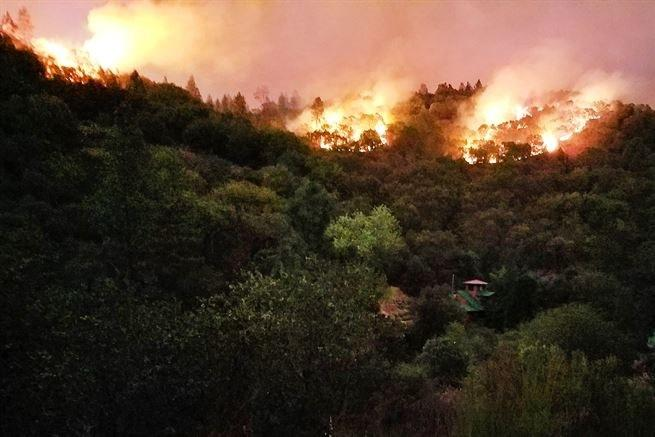Fire: (35, 10, 639, 163)
